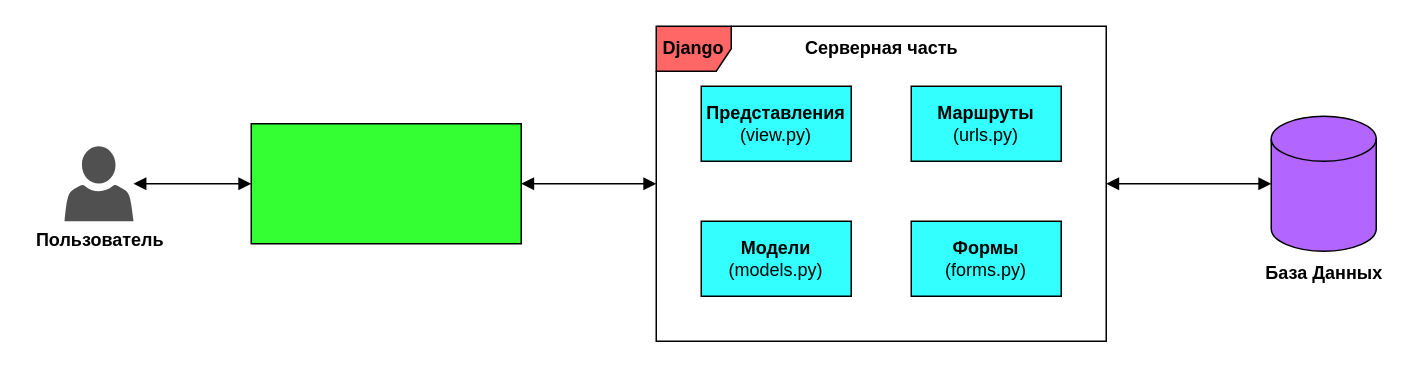
Image size: 1424x368. Some labels were removed from this diagram. Here are the shapes that lost their labels. From the top down, the centre of each, then its label:
the point at 385,183: Пользовательский интерфейс (HTML, CSS, JavaScript)
the point at 1323,183: SQLite
